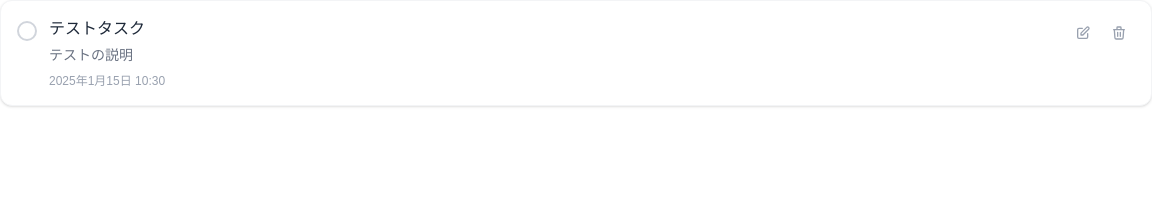
Test: TodoItem › 編集モードでキャンセルすると元の表示に戻る
The width and height of the screenshot is (1152, 223).
Click the button titled "編集" at (1083, 33), box [1067,17,1099,49]
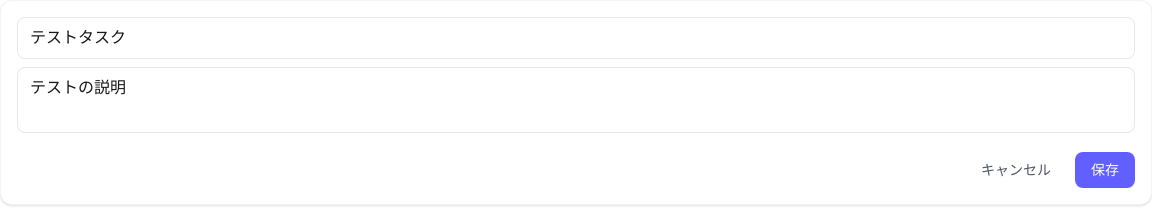
Replace the text in the field showing "テストタスク" with "変更タスク" at (576, 38), box [17,17,1135,59]
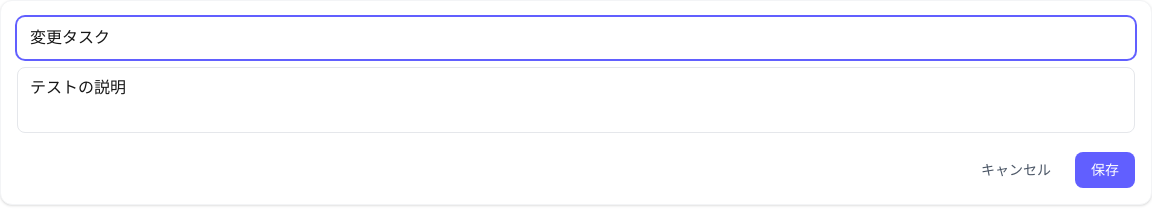
Click the button "キャンセル" at (1016, 170), box [965,152,1067,188]
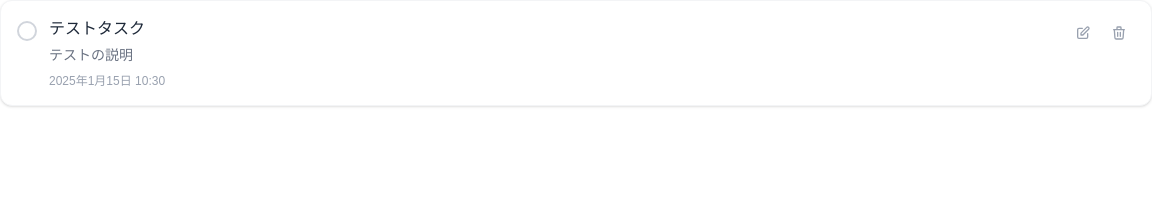
Expected: the heading "テストタスク" is shown, [49,20,145,37]
Expected: the button "保存" is gone
